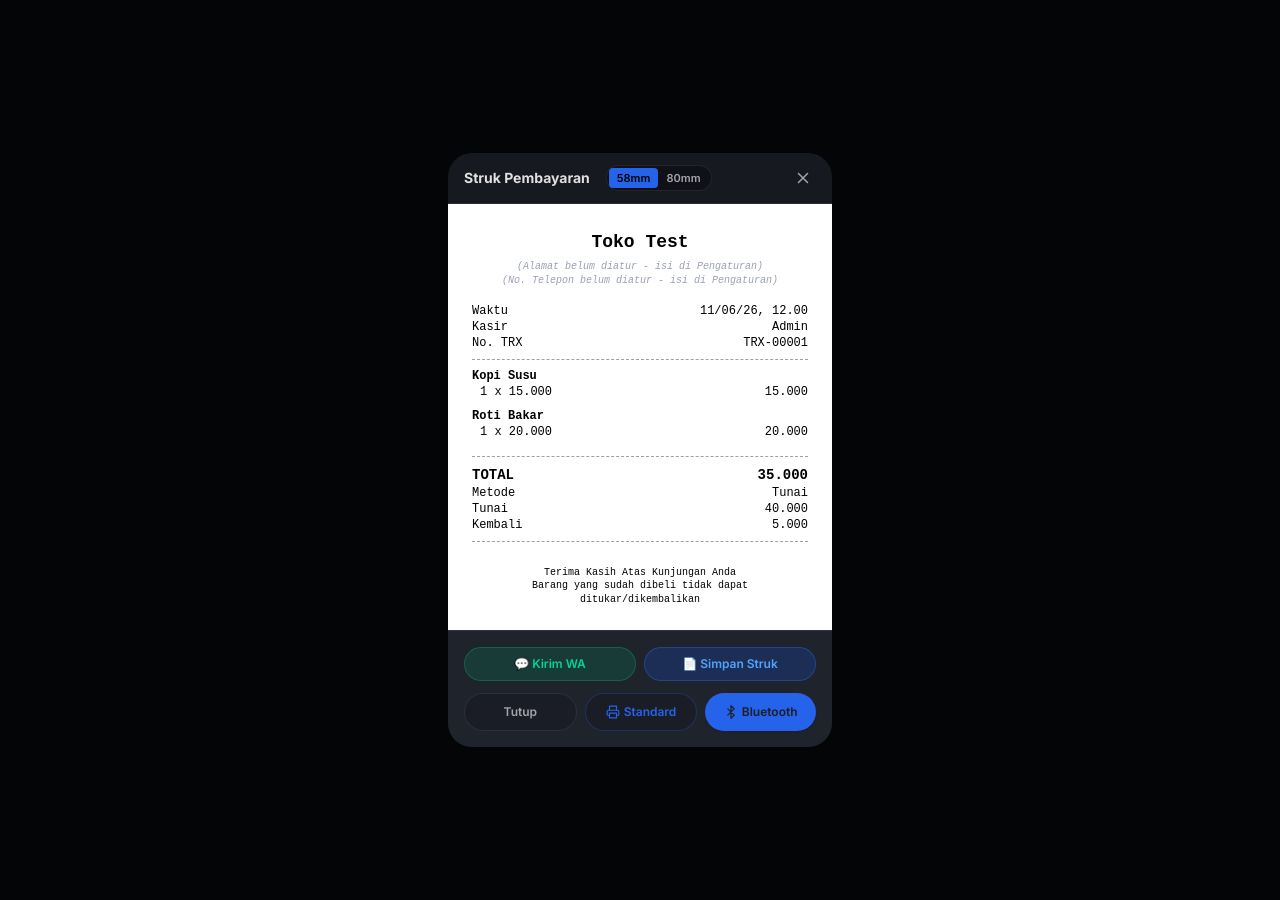
Test case: StrukModal and Bluetooth Printing Integration › 4. Displays failure message when Bluetooth print fails
This screenshot has width=1280, height=900.
# Click Bluetooth print
Click the button "Bluetooth" at (761,712), box [705,693,816,731]
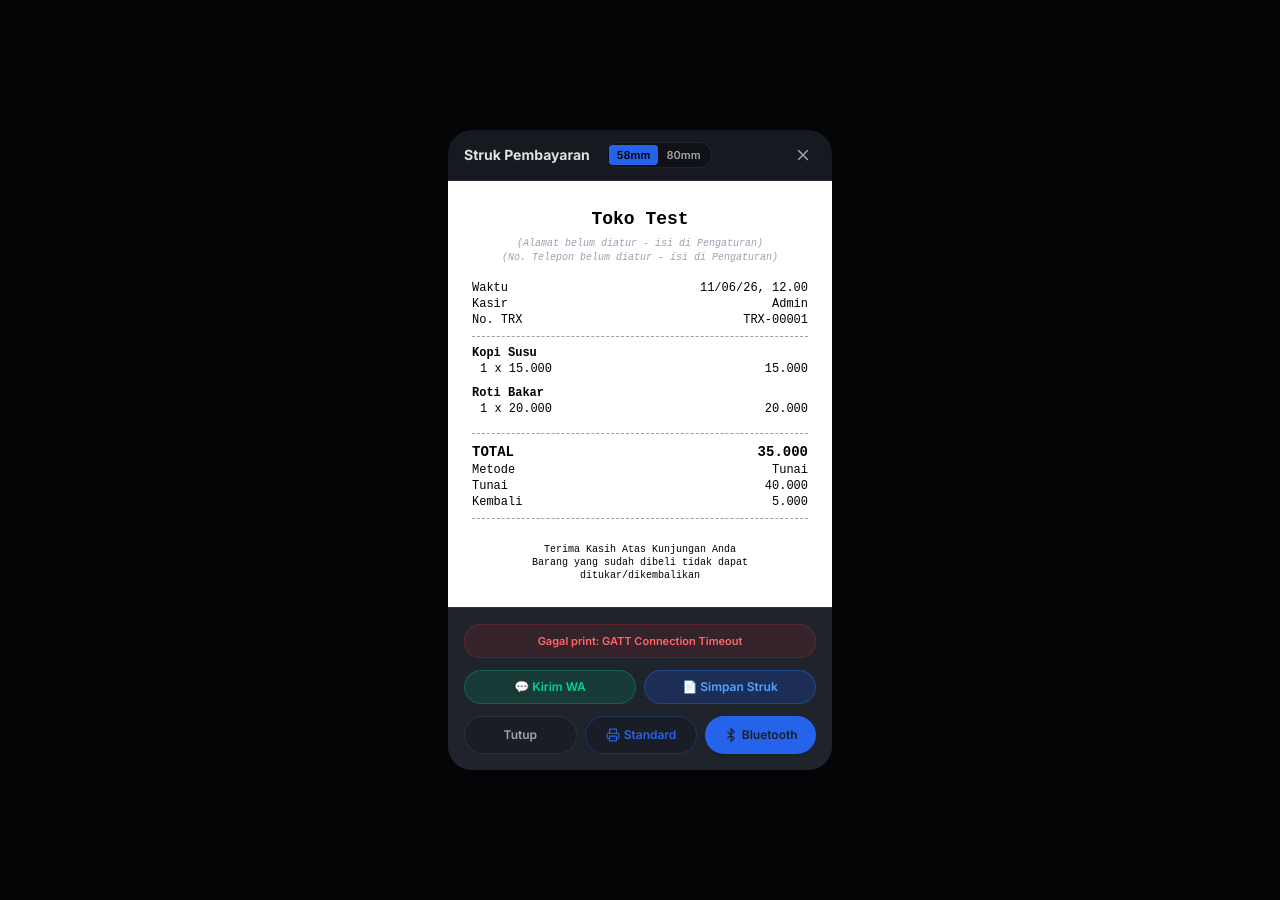
Now the text "Gagal print: GATT Connection Timeout" is shown, box [464,624,816,658]
